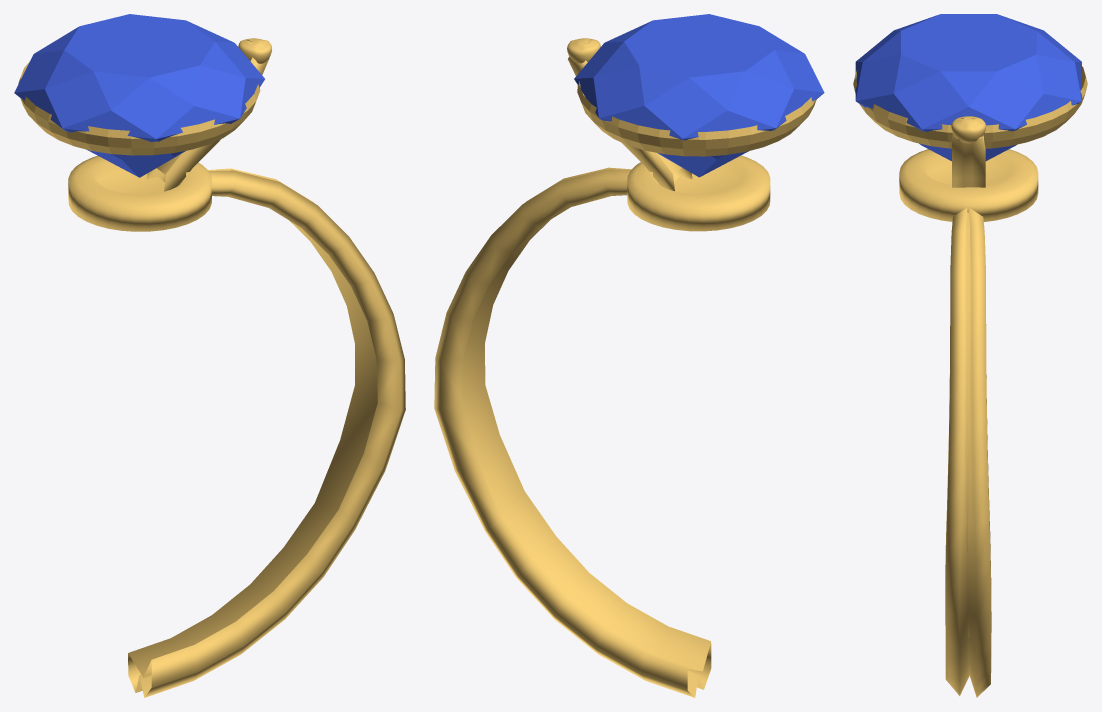
The model's file is 1744107345715_gyemant sajat arany-kek.glb.
The picture shows the model from 3 angles, left to right: view 1: azimuth 30°, elevation 25°; view 2: azimuth 150°, elevation 25°; view 3: azimuth 270°, elevation 25°; orthographic projection. The views are drawn at different scales.
Parts seen in each view (by area): view 1: Circle.001, Gem, Cylinder, Circle, Sphere; view 2: Circle.001, Gem, Cylinder, Circle, Sphere; view 3: Gem, Circle.001, Cylinder, Circle, Sphere.
Boxes of the visible parts, bbox=[...] form: Circle.001: bbox=[128, 168, 405, 697]; Gem: bbox=[14, 14, 264, 177]; Cylinder: bbox=[68, 156, 211, 231]; Circle: bbox=[18, 61, 260, 155]; Sphere: bbox=[146, 38, 271, 191]; Circle.001: bbox=[434, 167, 711, 697]; Gem: bbox=[574, 14, 824, 177]; Cylinder: bbox=[627, 155, 770, 231]; Circle: bbox=[577, 81, 816, 156]; Sphere: bbox=[567, 38, 692, 191]; Gem: bbox=[855, 14, 1081, 161]; Circle.001: bbox=[945, 208, 991, 697]; Cylinder: bbox=[899, 149, 1038, 221]; Circle: bbox=[853, 64, 1087, 148]; Sphere: bbox=[951, 116, 986, 187].
Bounding box in the file's own units: 3.34 × 5.67 × 1.92.
